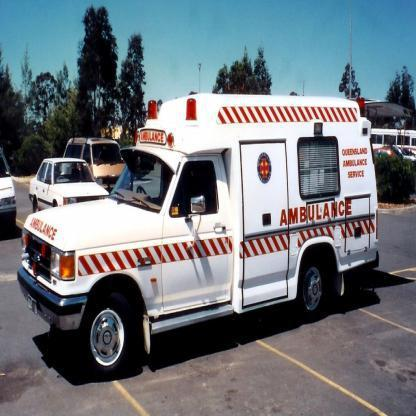Ambulance - v1 Ambulance last generate: (17, 92, 382, 378)
